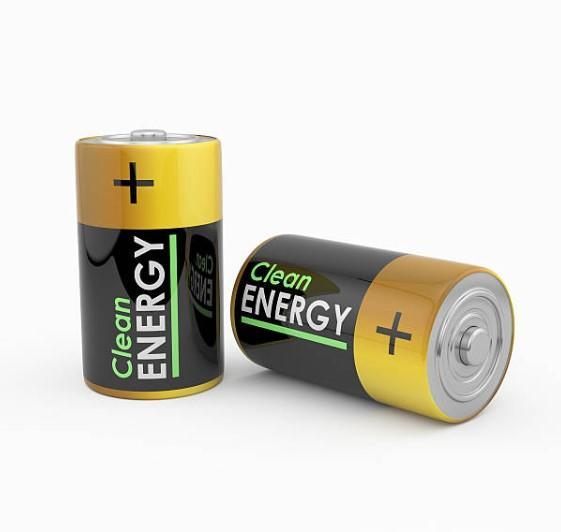Battery: (231, 235, 514, 422), (76, 130, 223, 400)
